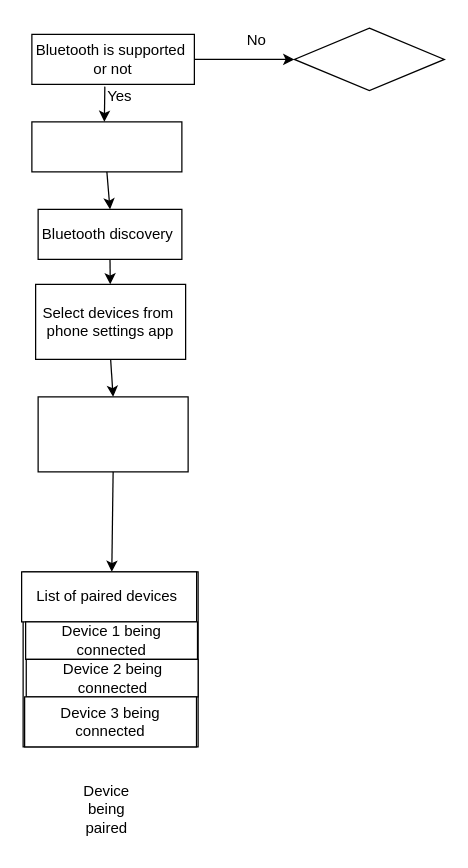
The diagram is 468 pixels wide and 868 high, and some of its shapes have lost their labels. The shapes that lost their labels are listed below. From the top down, each one's box as (x1, y1, x2, y2) in pixels, then its label:
(293, 27, 444, 91): App wont work
(31, 121, 182, 172): Bluetooth is on/off
(37, 396, 188, 472): Start Pairing
